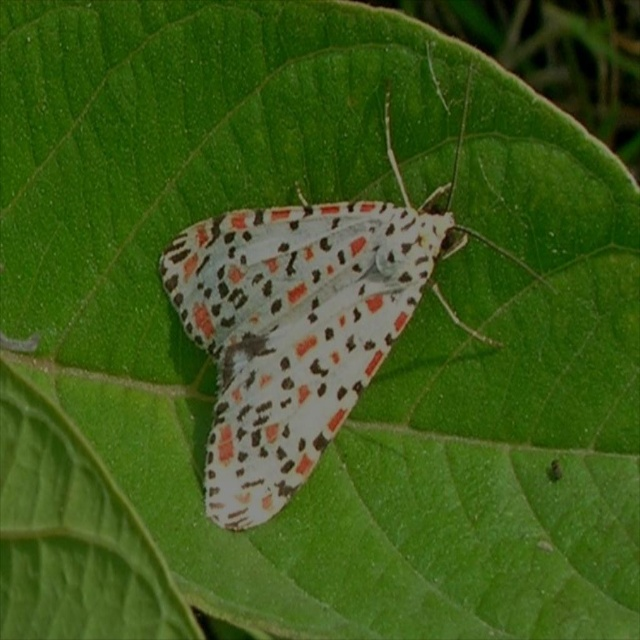Butterfly: (187, 158, 470, 531)
